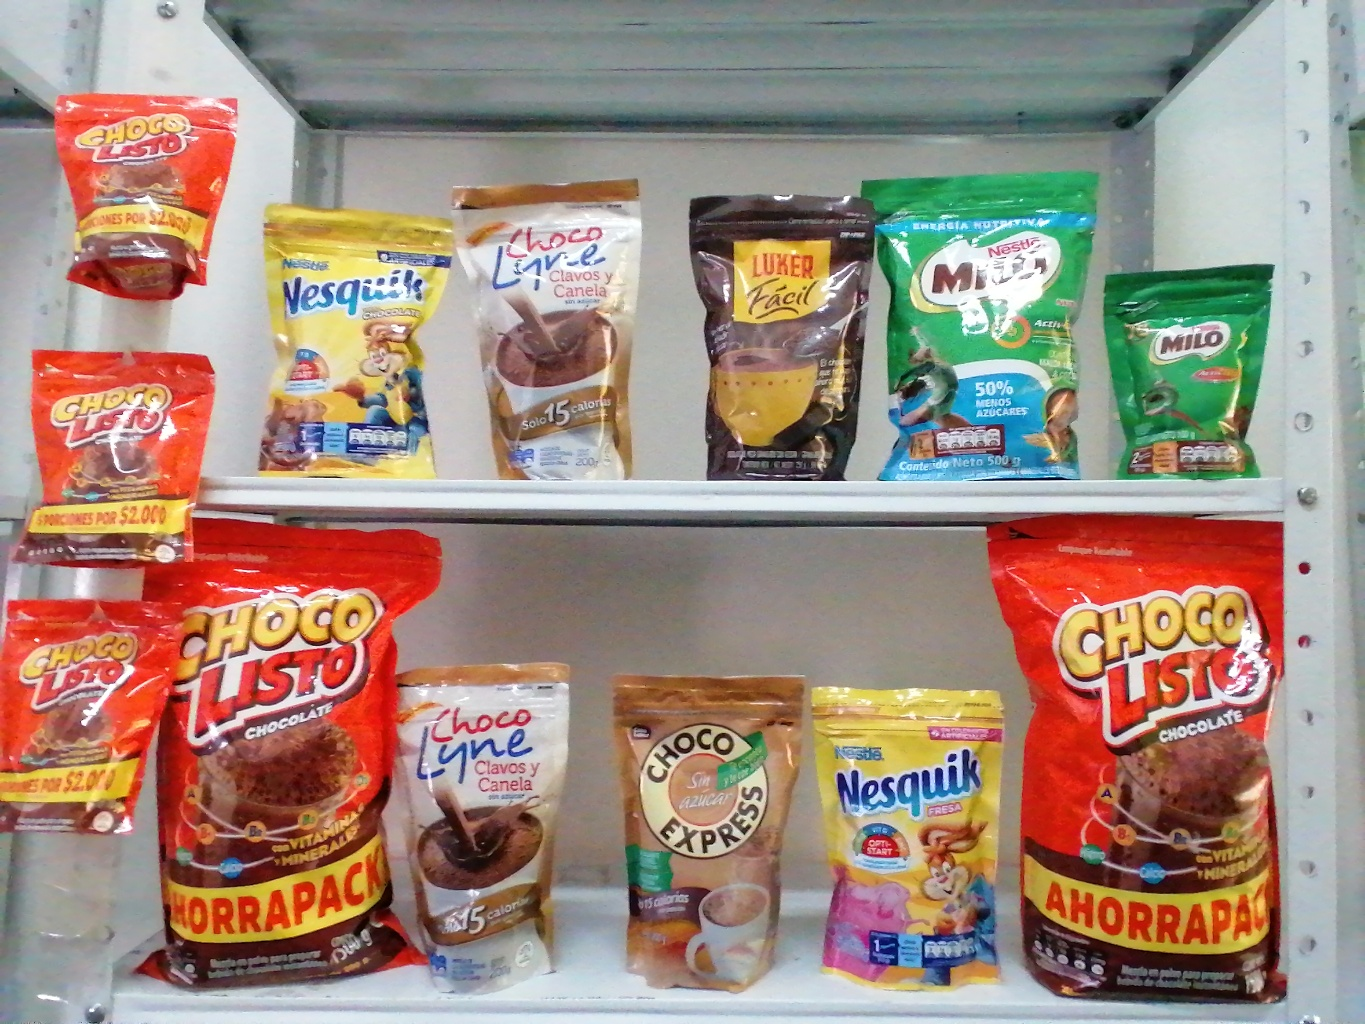COL0170103DYP1,500: (970, 507, 1334, 1014)
COL0170203DYP10000: (1084, 239, 1291, 490)
COL0170205DYP50000: (853, 153, 1126, 493)
COL0170303DYP20000: (207, 182, 470, 486)
COL0170305DYP20000: (805, 662, 1060, 1007)
